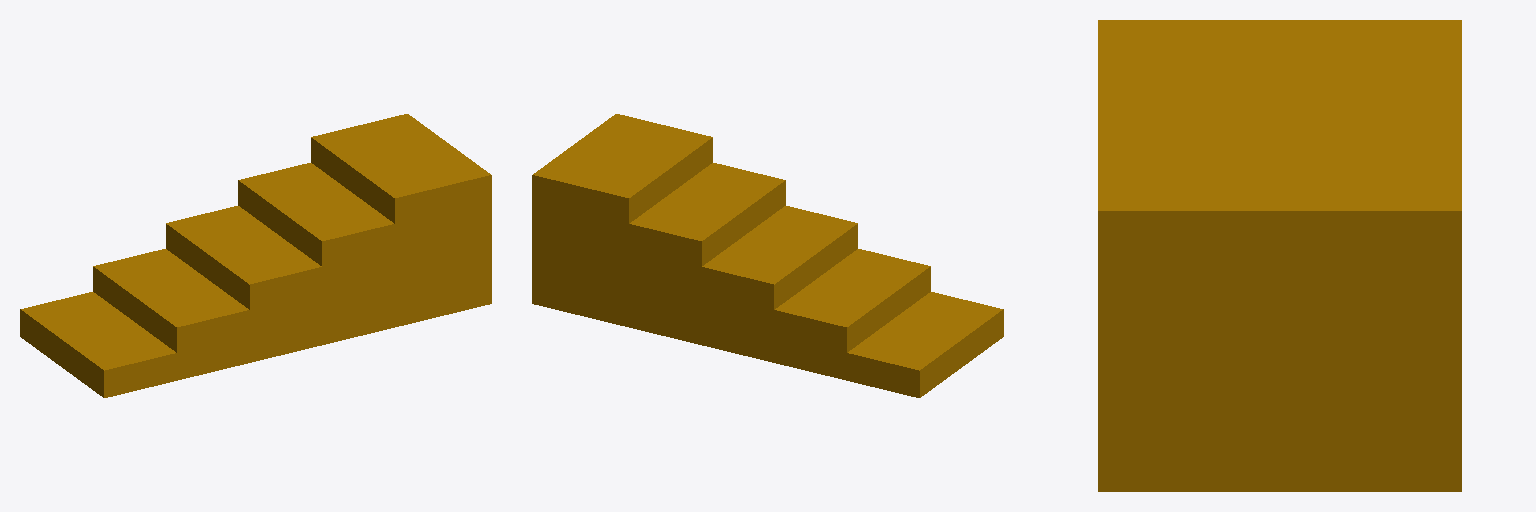
URDF robot description (darkgoldenrod-stairs):
<?xml version="1.0"?>
<robot name="darkgoldenrod-stairs"
       xmlns:xi="http://www.w3.org/2001/XInclude"
       xmlns:gazebo="http://playerstage.sourceforge.net/gazebo/xmlschema/#gz"
       xmlns:model="http://playerstage.sourceforge.net/gazebo/xmlschema/#model"
       xmlns:sensor="http://playerstage.sourceforge.net/gazebo/xmlschema/#sensor"
       xmlns:body="http://playerstage.sourceforge.net/gazebo/xmlschema/#body"
       xmlns:geom="http://playerstage.sourceforge.net/gazebo/xmlschema/#geom"
       xmlns:joint="http://playerstage.sourceforge.net/gazebo/xmlschema/#joint"
       xmlns:interface="http://playerstage.sourceforge.net/gazebo/xmlschema/#interface"
       xmlns:rendering="http://playerstage.sourceforge.net/gazebo/xmlschema/#rendering"
       xmlns:renderable="http://playerstage.sourceforge.net/gazebo/xmlschema/#renderable"
       xmlns:controller="http://playerstage.sourceforge.net/gazebo/xmlschema/#controller"
       xmlns:physics="http://playerstage.sourceforge.net/gazebo/xmlschema/#physics">
  <gazebo>
    <static>false</static>
  </gazebo>
  <link name="nil_link">
    <visual>
      <origin xyz="0 0 0" rpy="0 -0 0"/>
      <geometry>
        <mesh filename="model://darkgoldenrod-stairs/meshes/nil_link_mesh.dae" scale="1 1 1" />
      </geometry>
    </visual>
    <collision>
      <origin xyz="0 0 0" rpy="0 -0 0"/>
      <geometry>
        <mesh filename="model://darkgoldenrod-stairs/meshes/nil_link_mesh.dae" scale="1 1 1" />
      </geometry>
    </collision>
    <inertial>
      <mass value="5" />
      <origin xyz="0 0 0" rpy="0 -0 0"/>
      <inertia ixx="1e-09" ixy="0" ixz="0" iyy="1e-09" iyz="0" izz="1e-09"/>
    </inertial>
  </link>
  <gazebo reference="nil_link">
    <mu1>0.9</mu1>
    <mu2>0.9</mu2>
  </gazebo>
</robot>

--- What the picture shows (computed from the rendered views, not written in the file) ---
The picture shows the robot from 3 angles, left to right: view 1: azimuth 30°, elevation 25°; view 2: azimuth 150°, elevation 25°; view 3: azimuth 270°, elevation 25°; orthographic projection.
Model darkgoldenrod-stairs with 1 links and 0 joints (none), rooted at nil_link, posed every joint at zero.
Visible links, largest first — view 1: nil_link; view 2: nil_link; view 3: nil_link.
Link boxes in pixels (x1,y1,x2,y2): nil_link: (20, 114, 491, 397); nil_link: (532, 114, 1003, 397); nil_link: (1098, 20, 1461, 491).
Bounding box of the posed robot: 1.6 × 0.6 × 0.51 m (x, y, z).
Meshes: 1 distinct files referenced, 1 mesh visuals loaded (1 Collada DAE).
